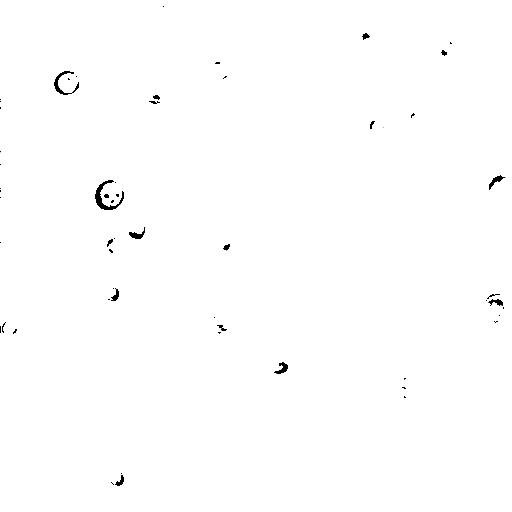micro-algae: (66, 123, 174, 229), (211, 227, 248, 263), (481, 289, 511, 324), (94, 179, 125, 212), (431, 33, 460, 64), (206, 309, 234, 337), (52, 70, 81, 97), (396, 369, 423, 397), (356, 25, 381, 55), (404, 107, 431, 130), (205, 60, 231, 81), (487, 173, 508, 198), (103, 237, 125, 258), (127, 218, 147, 241), (367, 117, 386, 141), (157, 1, 177, 21), (100, 281, 119, 302), (107, 466, 125, 487), (269, 358, 289, 375), (1, 319, 19, 335)
